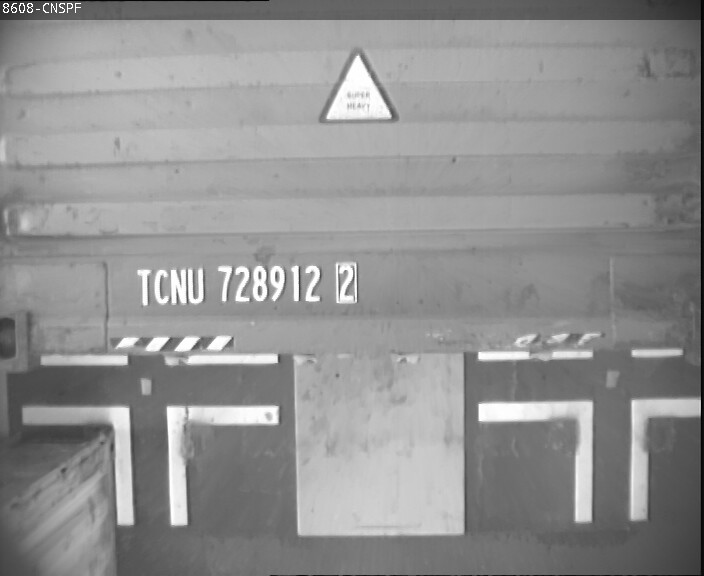groundmarker_1: (23, 400, 274, 521), (476, 397, 703, 521)
